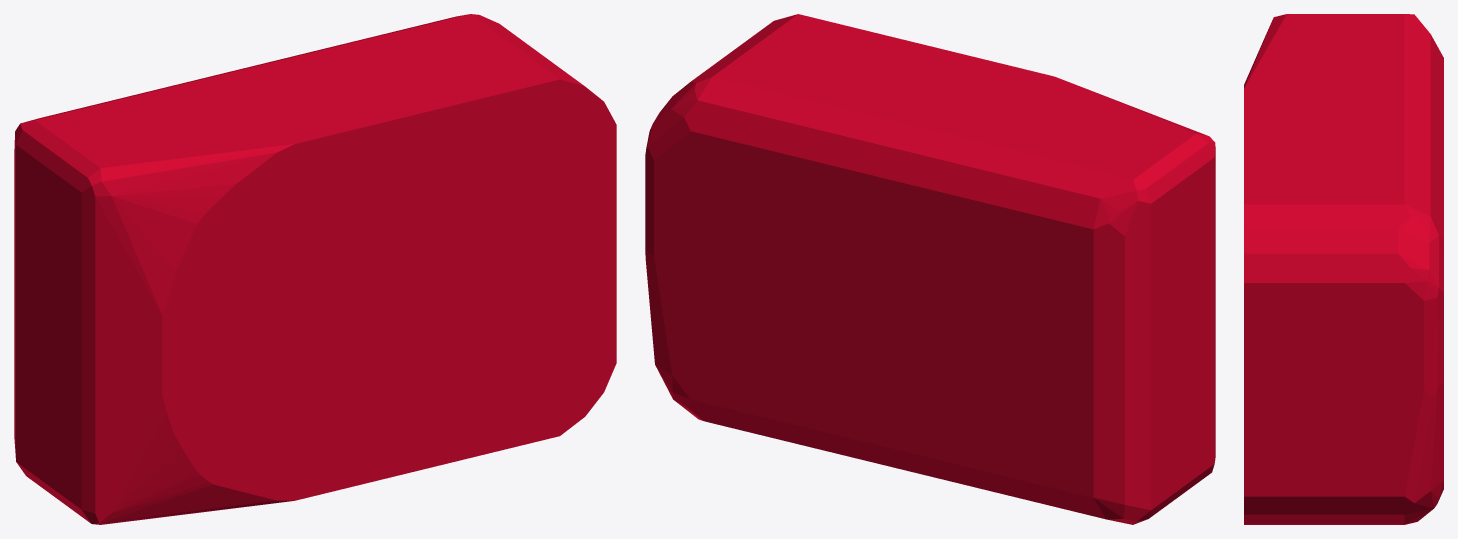
The model's file is model0_convex_piece_018.obj.
3 renders of one model, left to right at view 1: azimuth 30°, elevation 25°; view 2: azimuth 150°, elevation 25°; view 3: azimuth 270°, elevation 25°, orthographic. The views are drawn at different scales.
Size of the model in its own units: 0.0188 by 0.0125 by 0.00708.
